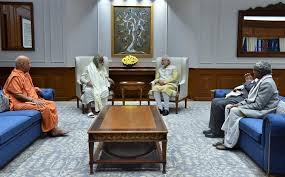Good: (1, 55, 117, 116), (80, 55, 181, 116), (153, 55, 280, 102)
